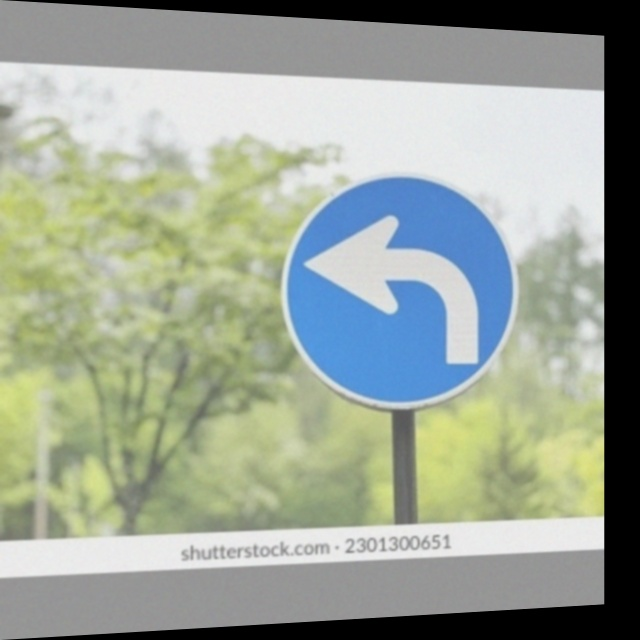Compulsory_Turn_Left_Ahead: (277, 170, 517, 412)
